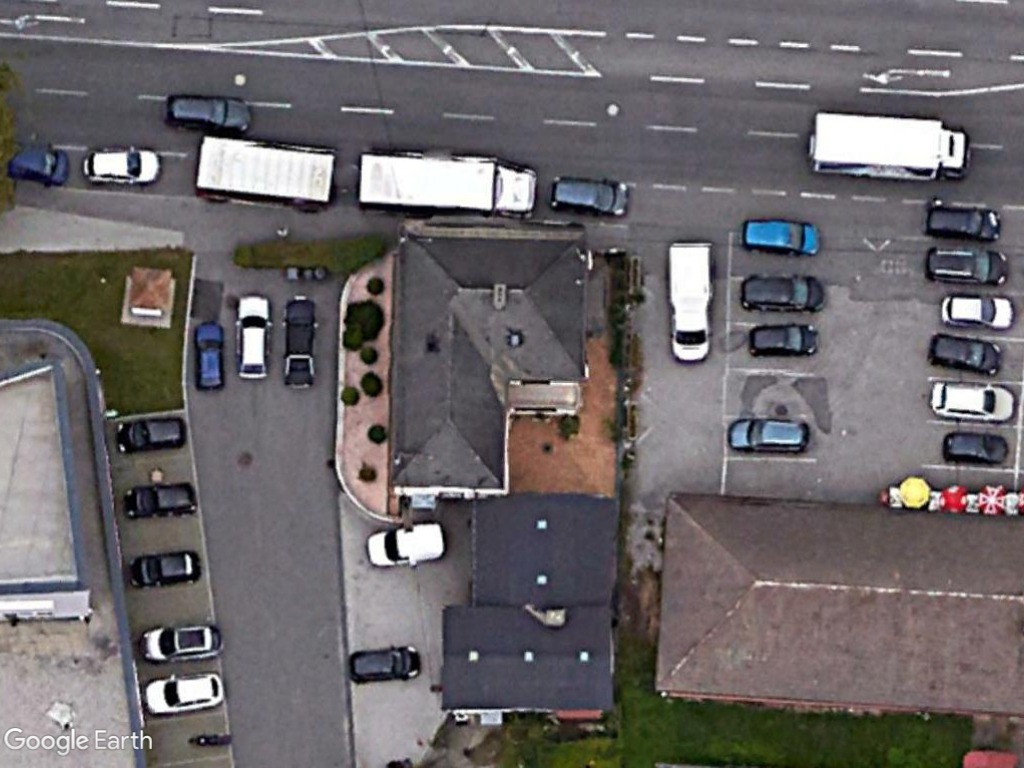car: (137, 667, 229, 719), (226, 290, 275, 386), (919, 236, 1009, 288), (159, 90, 258, 137), (546, 170, 639, 220), (276, 288, 319, 395), (133, 618, 226, 666), (737, 214, 827, 262), (916, 197, 1003, 246), (123, 545, 205, 596), (926, 378, 1016, 424), (737, 272, 831, 316), (77, 144, 163, 192), (925, 330, 1005, 379), (114, 478, 202, 522), (344, 640, 425, 687), (936, 289, 1021, 333), (110, 414, 190, 458), (725, 416, 814, 454), (190, 315, 232, 395), (742, 320, 823, 359), (939, 428, 1013, 467)
truck: (351, 147, 539, 220), (804, 106, 978, 183)
van: (662, 237, 719, 369), (359, 520, 454, 570)
